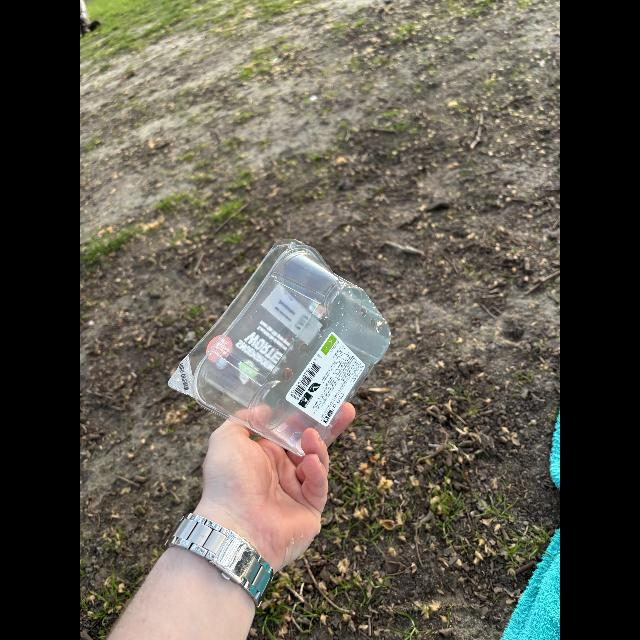Plastic: (166, 232, 397, 456)
